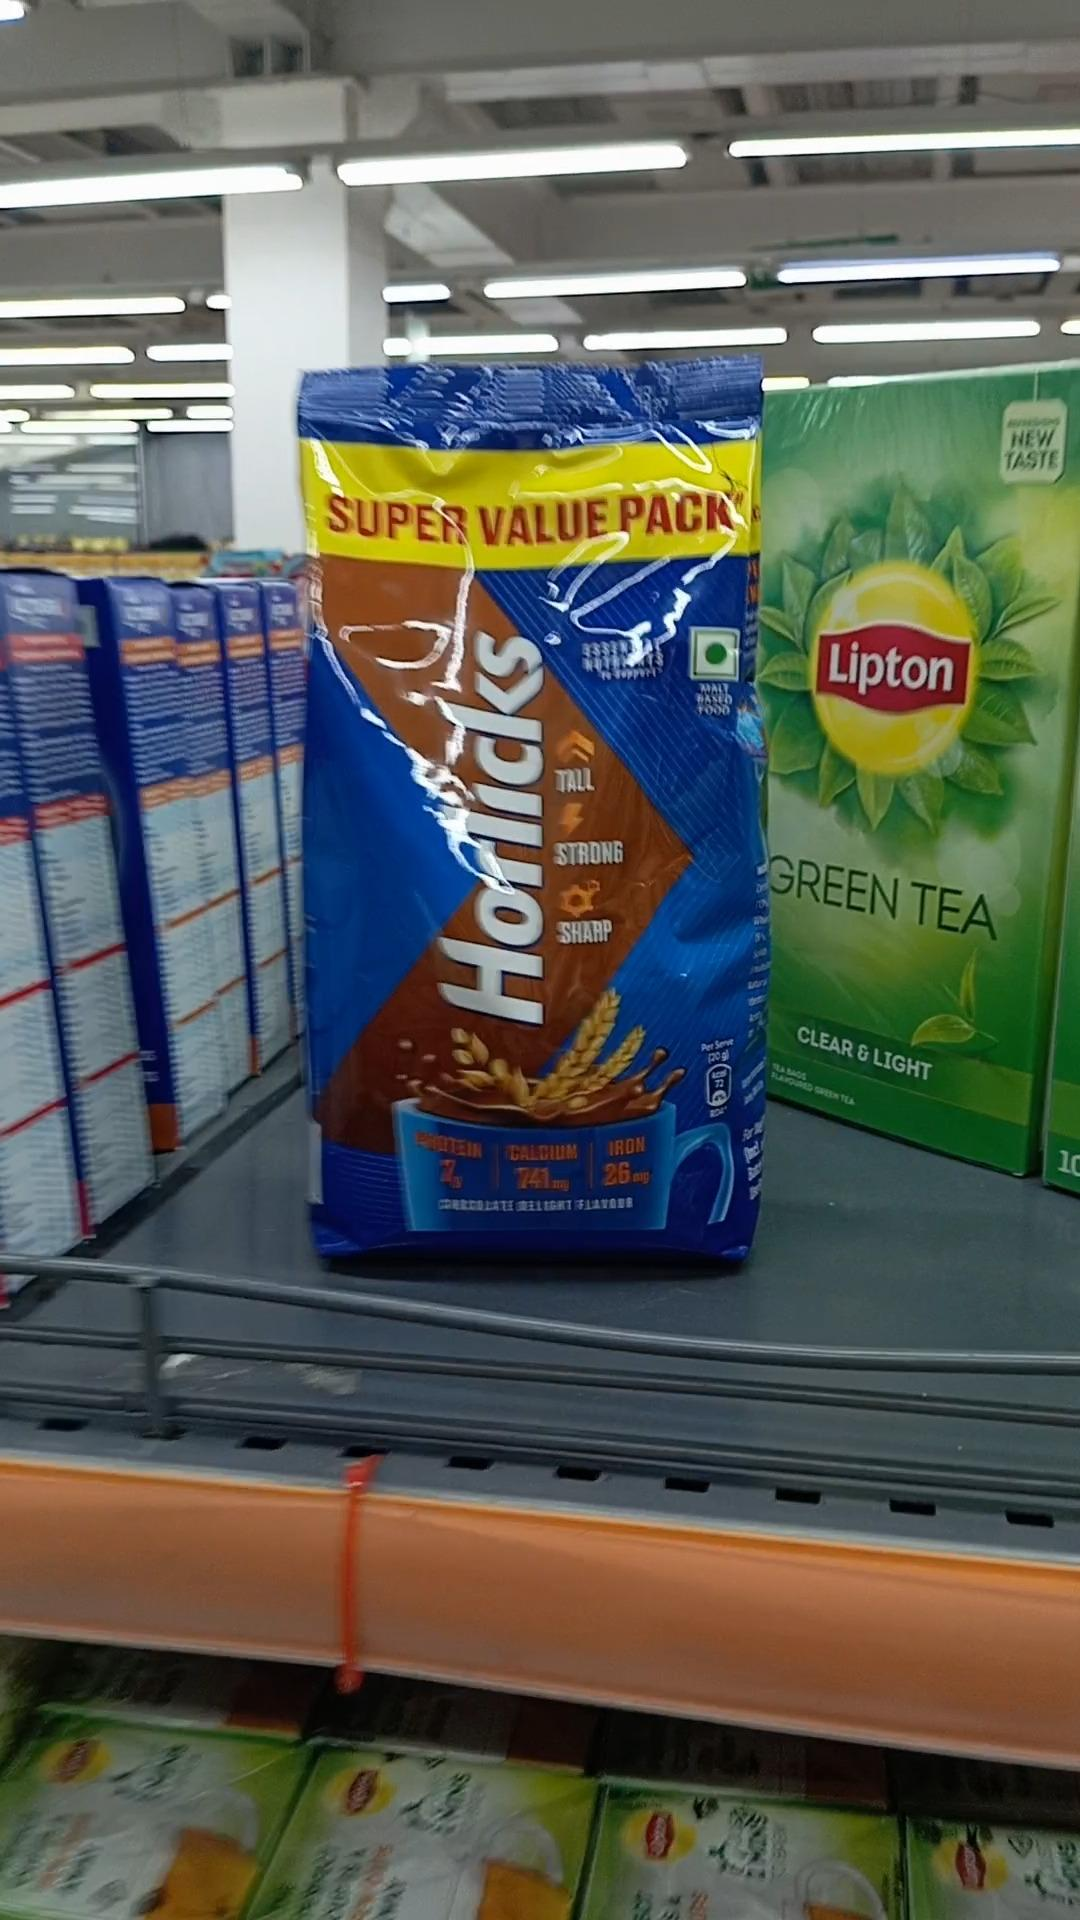HORLICK_CHOCOLATE_750_G_POUCH: (313, 365, 762, 1261)
